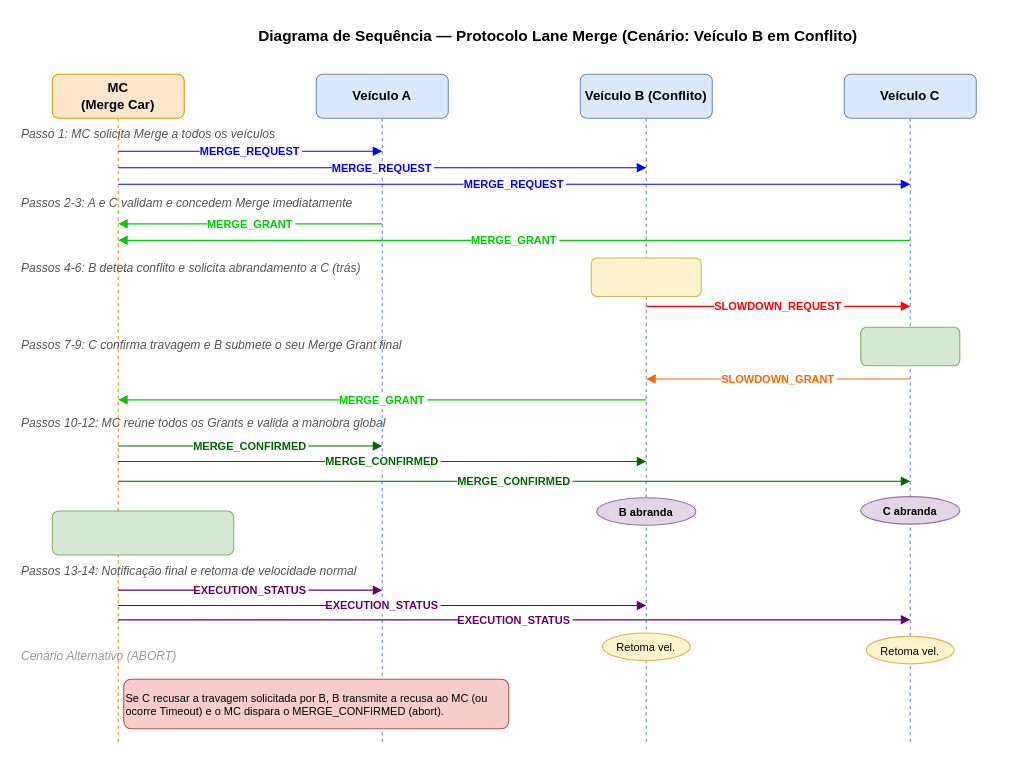
Image size: 1016x766. Some labels were removed from this diagram. Each missing label, with the centre of its shape:
B em conflito. Calcula v-alvo.: pixel 645 276
C consegue travar a tempo: pixel 910 346
✓ MERGE EXECUTADO: pixel 142 532
